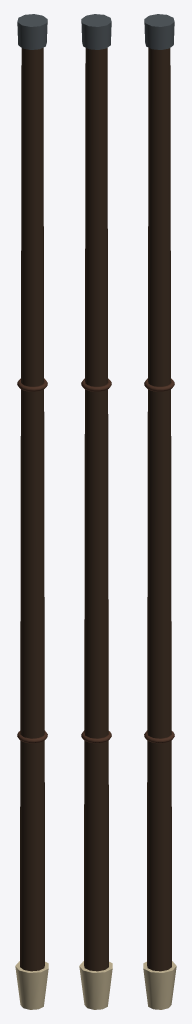
Rendered from blowgun.glb.
3 renders of one model, left to right at view 1: azimuth 30°, elevation 25°; view 2: azimuth 150°, elevation 25°; view 3: azimuth 330°, elevation 25°, orthographic.
Parts seen in each view (by area): view 1: blowgun-tube, blowgun-mouthpiece, blowgun-muzzle-ring, blowgun-binding (×2); view 2: blowgun-tube, blowgun-mouthpiece, blowgun-muzzle-ring, blowgun-binding (×2); view 3: blowgun-tube, blowgun-mouthpiece, blowgun-muzzle-ring, blowgun-binding (×2).
Boxes of the visible parts, x1=… form: blowgun-tube: x1=20, y1=47, x2=44, y2=971; blowgun-mouthpiece: x1=15, y1=961, x2=48, y2=1009; blowgun-muzzle-ring: x1=17, y1=14, x2=47, y2=49; blowgun-binding (×2): x1=17, y1=378, x2=47, y2=743; blowgun-tube: x1=84, y1=48, x2=108, y2=971; blowgun-mouthpiece: x1=79, y1=961, x2=112, y2=1009; blowgun-muzzle-ring: x1=81, y1=14, x2=111, y2=49; blowgun-binding (×2): x1=81, y1=378, x2=111, y2=743; blowgun-tube: x1=147, y1=47, x2=171, y2=971; blowgun-mouthpiece: x1=143, y1=961, x2=176, y2=1009; blowgun-muzzle-ring: x1=144, y1=14, x2=174, y2=49; blowgun-binding (×2): x1=144, y1=378, x2=174, y2=743.
Bounding box in the file's own units: 0.0306 × 0.98 × 0.0302.
